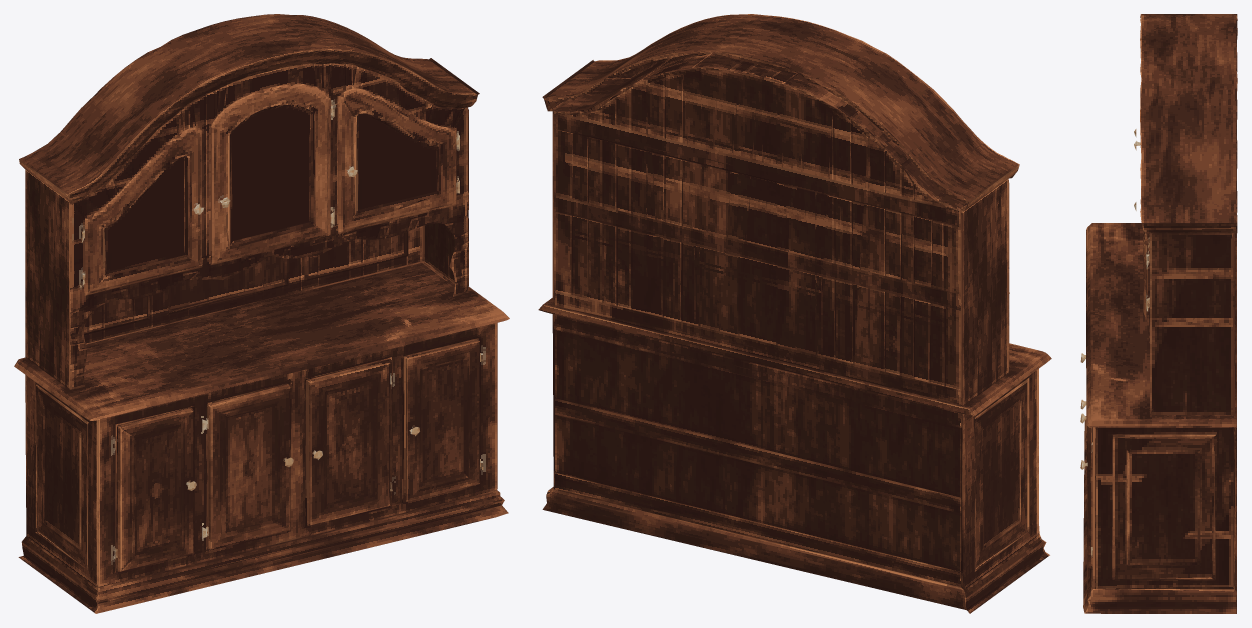
The model's file is vintage_cabinet_01.glb.
3 renders of one model, left to right at view 1: azimuth 30°, elevation 25°; view 2: azimuth 150°, elevation 25°; view 3: azimuth 270°, elevation 25°, orthographic. The views are drawn at different scales.
Visible parts, largest first — view 1: mesh; view 2: mesh; view 3: mesh.
Boxes of the visible parts, <box> form: mesh: <box>14,14,509,613</box>; mesh: <box>538,14,1051,613</box>; mesh: <box>1080,14,1237,613</box>.
Size of the model in its own units: 81.12 by 89.4 by 26.81.
Materials: 1 (1 with a texture image).
